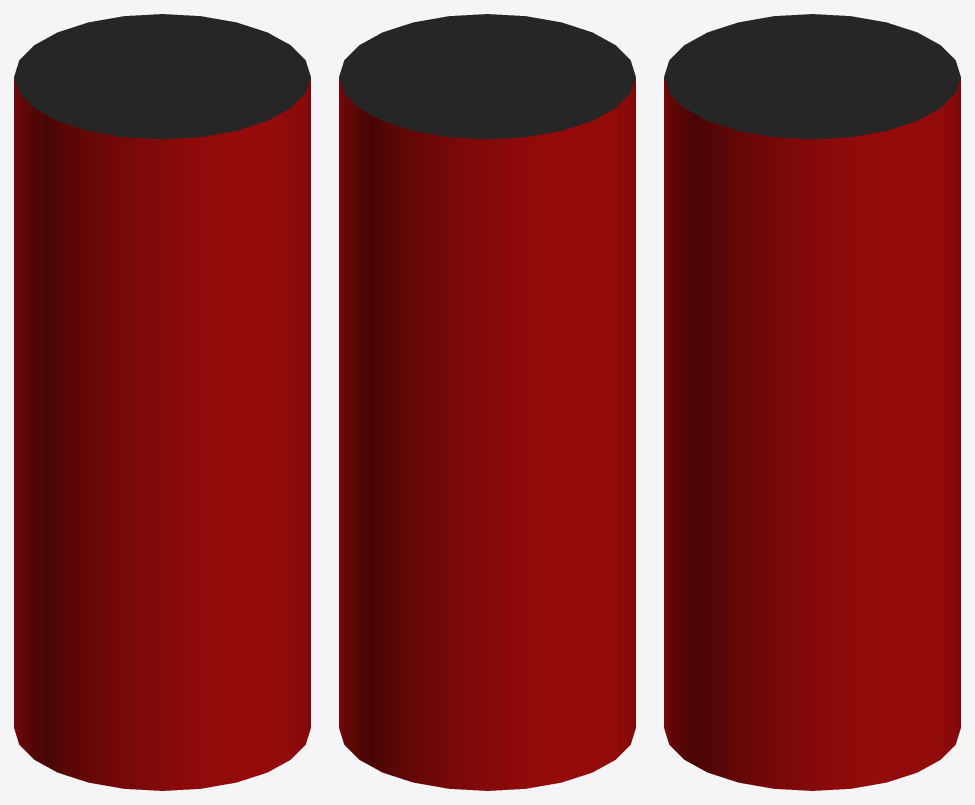
File: Robot Tank.dae
3 views of the same model, side by side, from view 1: azimuth 30°, elevation 25°; view 2: azimuth 150°, elevation 25°; view 3: azimuth 270°, elevation 25° (orthographic).
Parts seen in each view (by area): view 1: SketchUp (×2); view 2: SketchUp (×2); view 3: SketchUp (×2).
Boxes of the visible parts, <box> form: SketchUp (×2): <box>14,14,310,790</box>; SketchUp (×2): <box>339,14,635,790</box>; SketchUp (×2): <box>664,14,960,790</box>.
Size of the model in its own units: 10.24 by 10.24 by 24.8.
